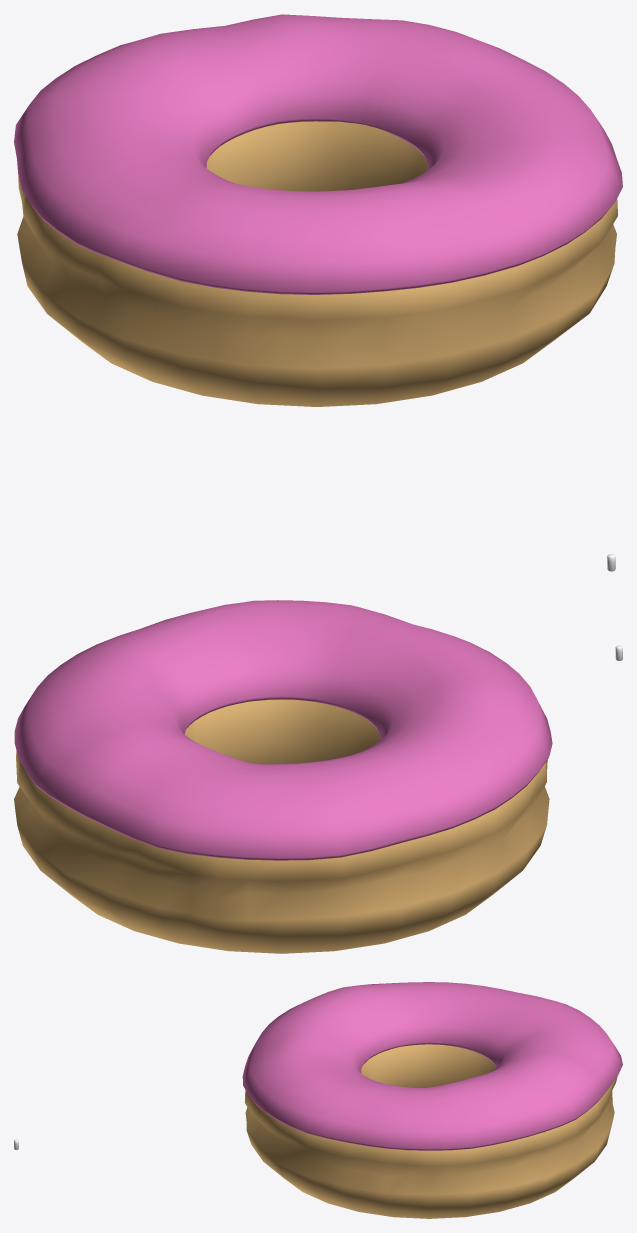
File: donut.glb
3 renders of one model, top to bottom at view 1: azimuth 30°, elevation 25°; view 2: azimuth 150°, elevation 25°; view 3: azimuth 270°, elevation 25°, orthographic. The views are drawn at different scales.
Parts seen in each view (by area): view 1: OG ice, OG nut; view 2: OG ice, OG nut; view 3: OG ice, OG nut.
Boxes of the visible parts, x1,y1,x2,y2 form: OG ice: (14,14,622,294); OG nut: (17,121,617,406); OG ice: (14,600,552,860); OG nut: (14,699,549,953); OG ice: (242,982,622,1150); OG nut: (244,1044,617,1218).
Bounding box in the file's own units: 0.1463 × 0.0553 × 0.2417.
